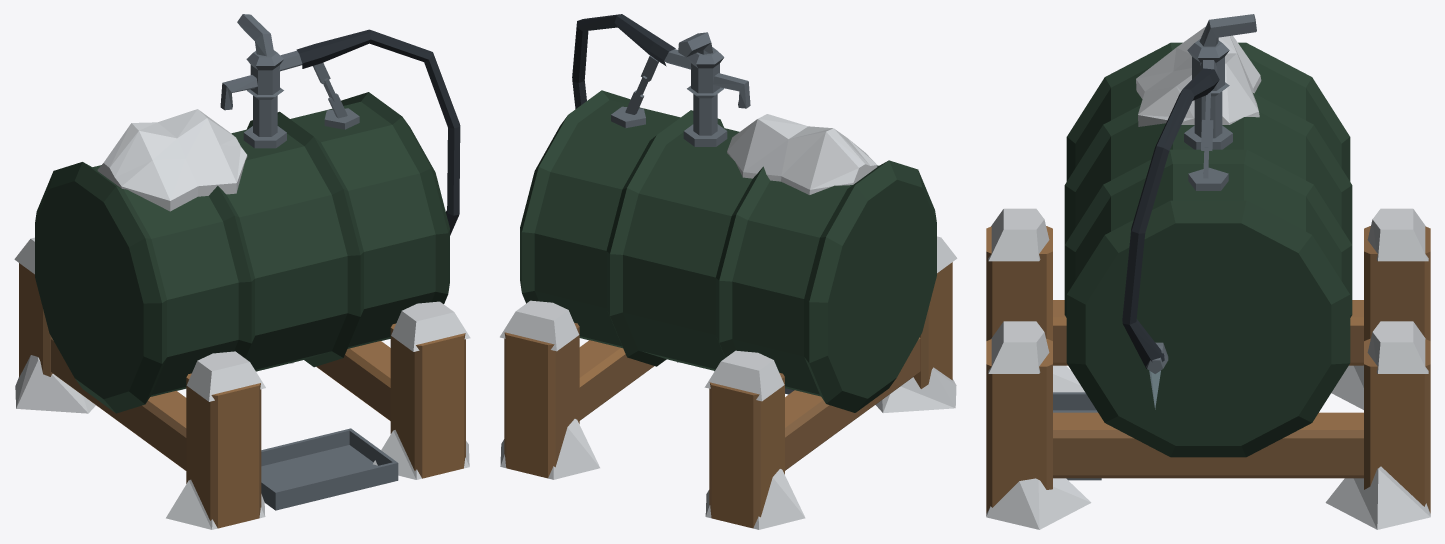
The model's file is groomer-fuel-drum-9d56e6.glb.
3 views of the same model, side by side, from view 1: azimuth 30°, elevation 25°; view 2: azimuth 150°, elevation 25°; view 3: azimuth 270°, elevation 25° (orthographic). The views are drawn at different scales.
Parts seen in each view (by area): view 1: drum-and-cradle, drip-tray-plate; view 2: drum-and-cradle; view 3: drum-and-cradle, drip-tray-plate.
Boxes of the visible parts, x1,y1,x2,y2 form: drum-and-cradle: (14,14,470,529); drip-tray-plate: (261,428,398,510); drum-and-cradle: (500,14,957,529); drum-and-cradle: (986,14,1430,529); drip-tray-plate: (1053,392,1101,480).
Size of the model in its own units: 0.9979 by 1.1 by 1.
